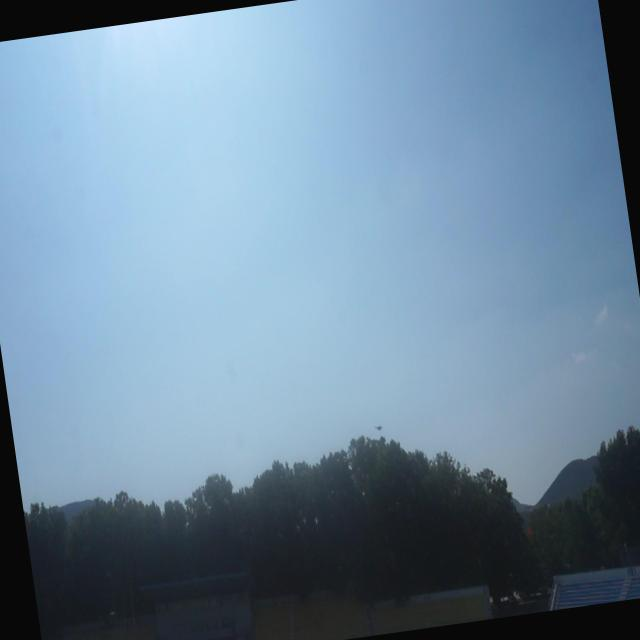drone: (372, 420, 388, 436)
